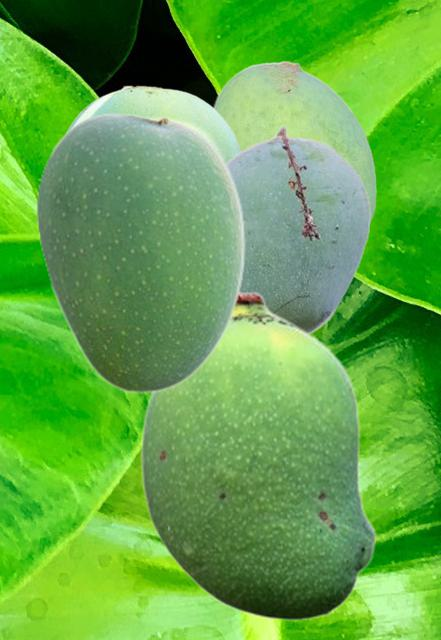green_mango: (140, 290, 376, 621), (36, 112, 245, 392), (226, 125, 370, 333), (211, 60, 375, 225), (63, 84, 242, 160)
